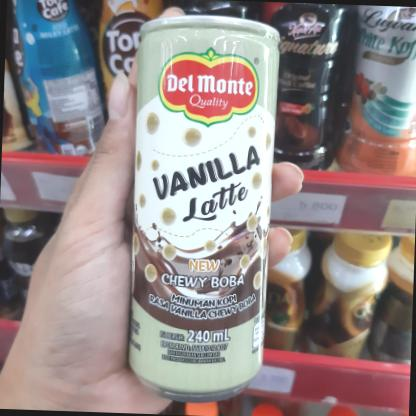alumunium_can: (106, 2, 306, 408)
